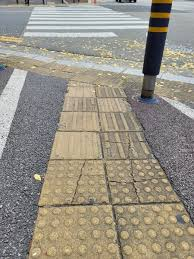guide_blocks: (36, 158, 194, 259), (51, 80, 150, 158), (2, 57, 67, 78), (138, 76, 194, 98), (72, 68, 131, 87)
